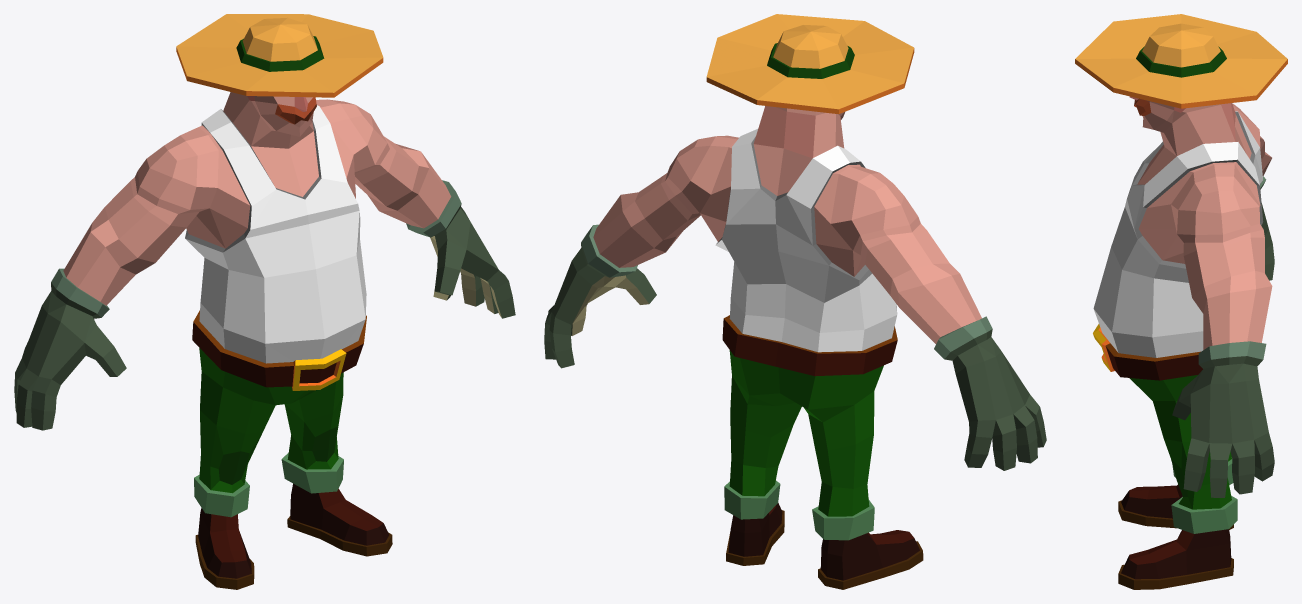
File: Farmer_2.fbx
3 renders of one model, left to right at view 1: azimuth 30°, elevation 25°; view 2: azimuth 150°, elevation 25°; view 3: azimuth 270°, elevation 25°, orthographic.
Visible parts, largest first — view 1: Farmer_2; view 2: Farmer_2; view 3: Farmer_2.
Boxes of the visible parts, left/top/right/bottom form: Farmer_2: left=14, top=14, right=515, bottom=589; Farmer_2: left=544, top=14, right=1046, bottom=589; Farmer_2: left=1075, top=14, right=1287, bottom=589.
Bounding box in the file's own units: 416 × 431 × 161.
1 material, 1 textured.
